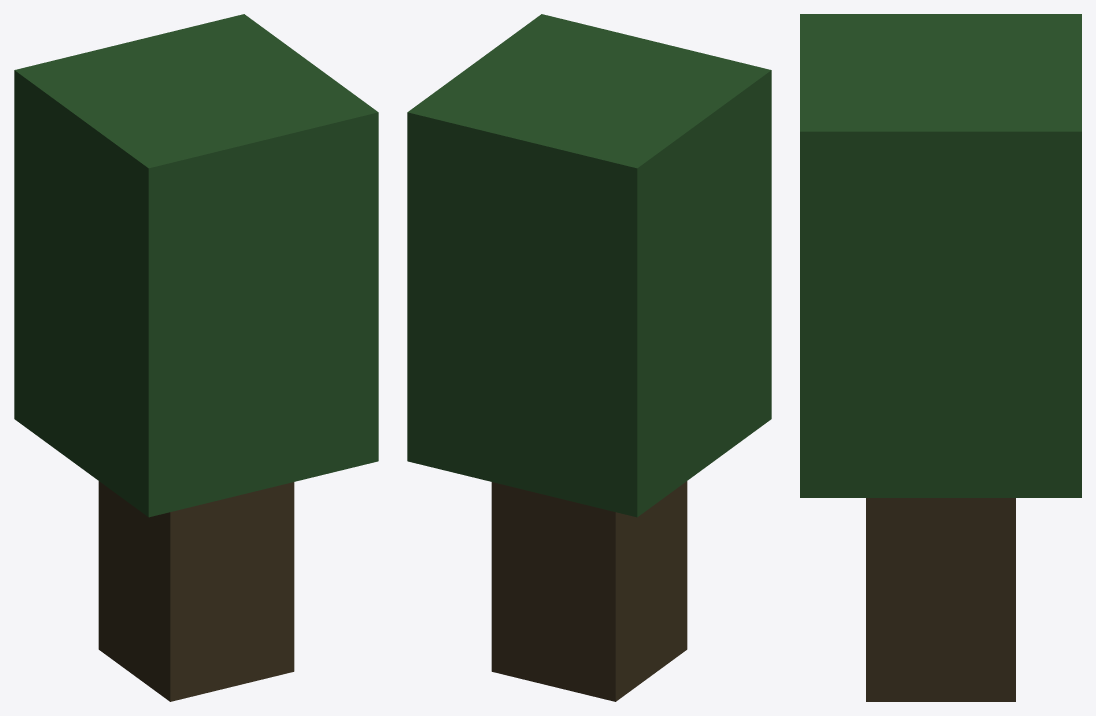
File: tree1.gltf
3 views of the same model, side by side, from view 1: azimuth 30°, elevation 25°; view 2: azimuth 150°, elevation 25°; view 3: azimuth 270°, elevation 25° (orthographic). The views are drawn at different scales.
Parts seen in each view (by area): view 1: Tree; view 2: Tree; view 3: Tree.
Part boxes in pixels (x1,y1,x2,y2): Tree: (14,14,378,701); Tree: (407,14,771,701); Tree: (800,14,1081,701).
Bounding box in the file's own units: 9.92 × 23.49 × 10.04.
